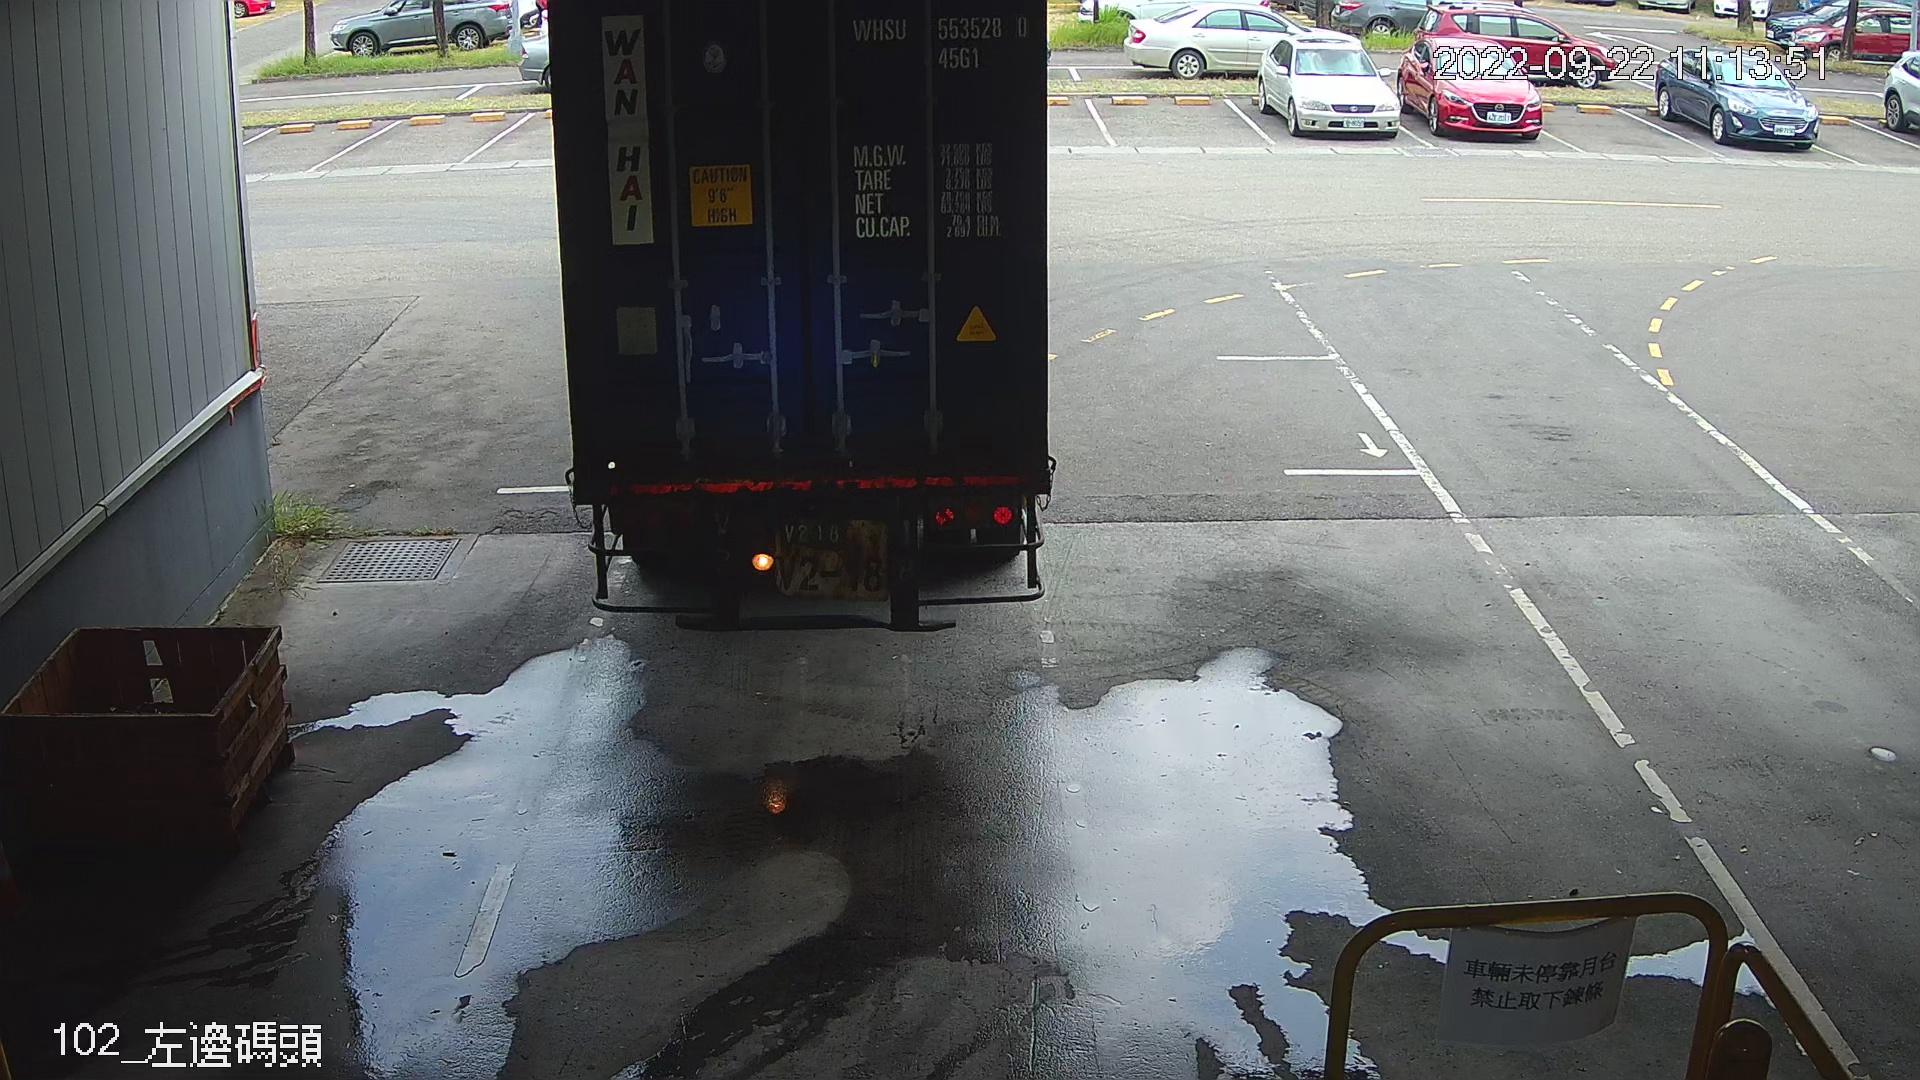container: (841, 11, 1036, 76)
